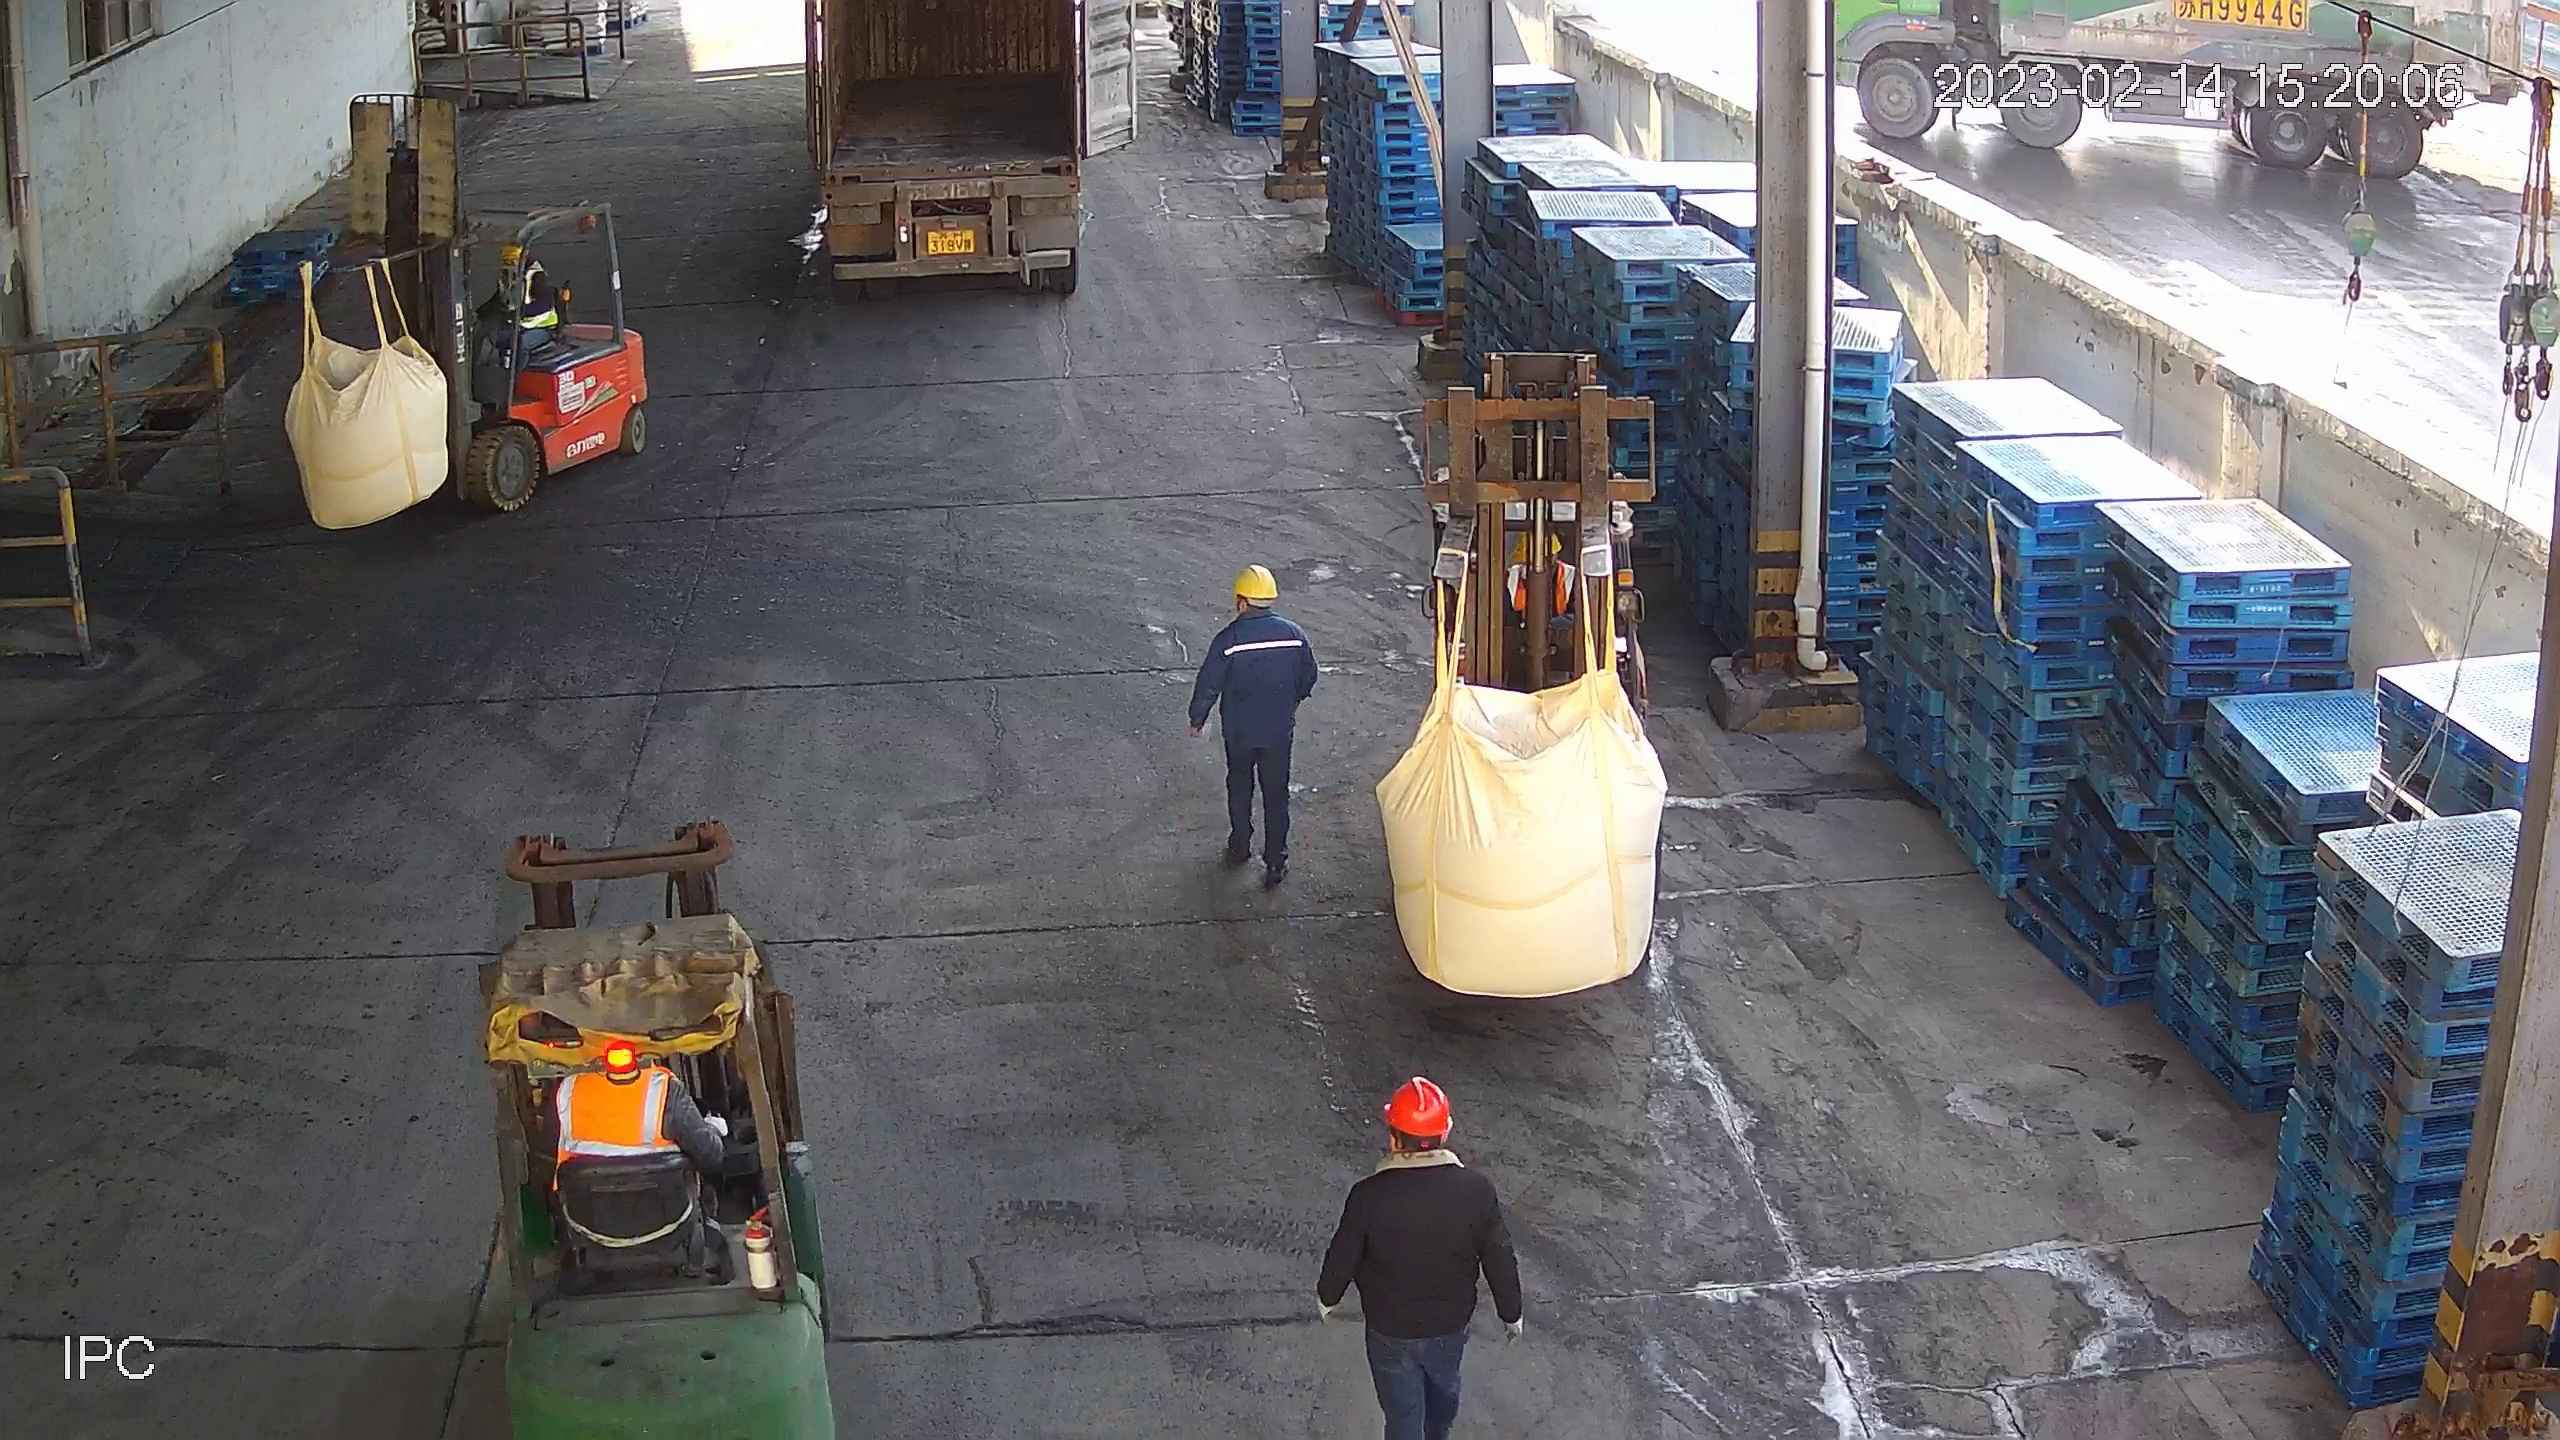head: (1344, 1072, 1500, 1213), (1214, 564, 1306, 651)
helmet: (1383, 1076, 1456, 1130), (1228, 562, 1281, 604)
people: (1311, 1076, 1528, 1440), (1188, 565, 1316, 893)
truck: (790, 1, 1160, 318)
